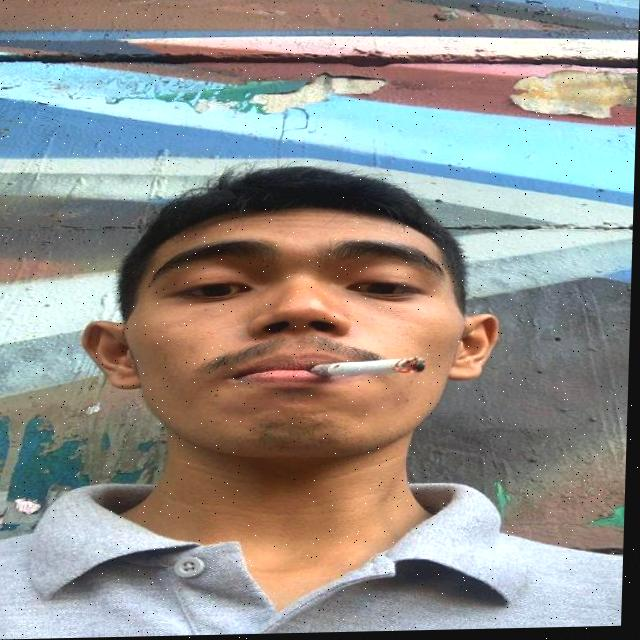cigarette: (312, 359, 428, 381)
